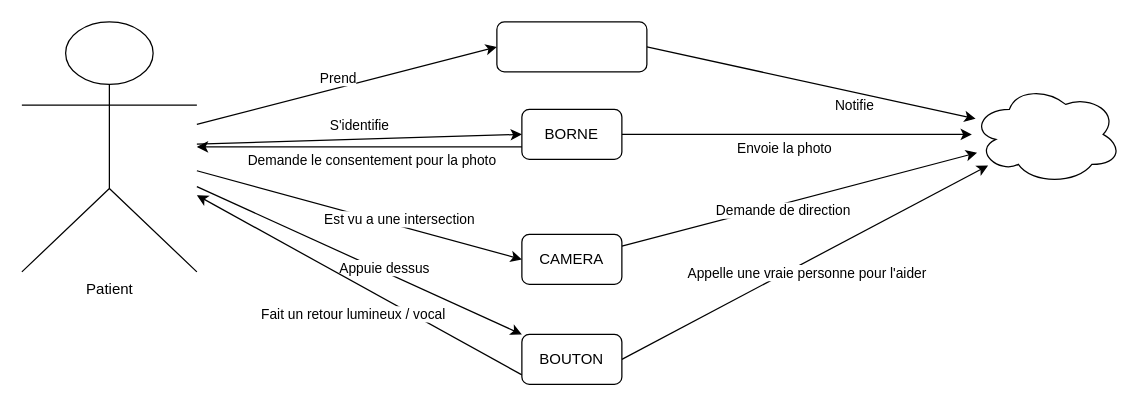
Image size: 1144x408. Some labels were removed from this diagram. Each missing label, with the box of its shape:
RENDEZ VOUS: (496, 21, 647, 72)
System: (971, 83, 1122, 184)
